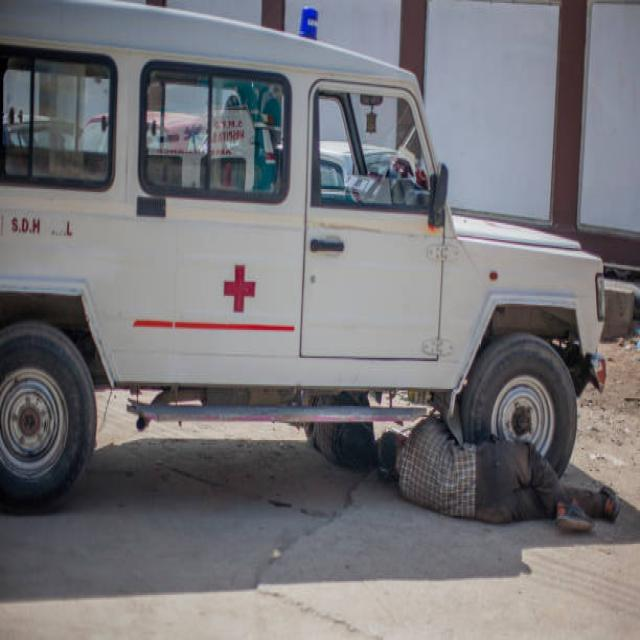ambulance: (0, 0, 602, 499), (91, 0, 606, 427)
